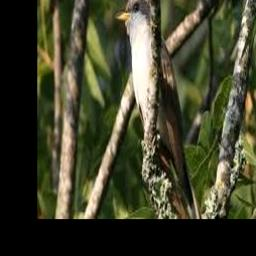Cuckoo: (115, 0, 202, 219)
